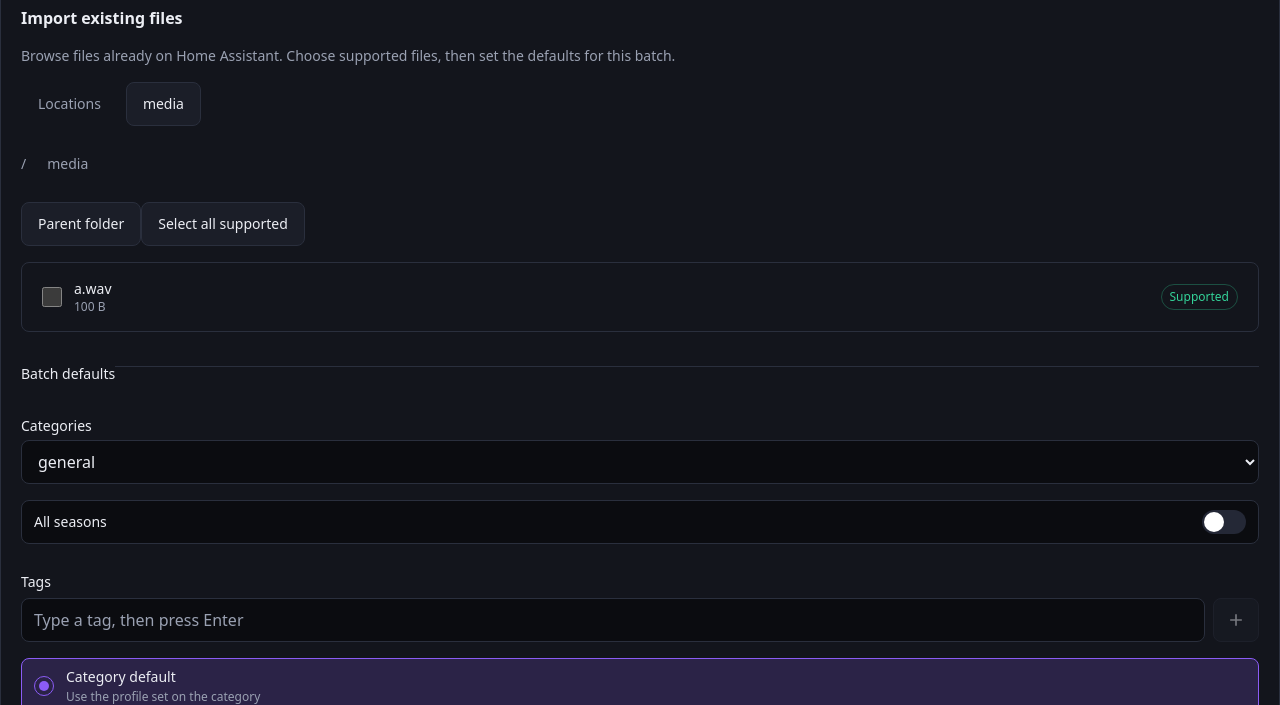
Scenario: keeps selected paths after a failed import, then clears them after success
This screenshot has width=1280, height=705.
Click the checkbox labelled "a.wav 100 B Supported" at (52, 297), box [42,287,62,307]
(page scrolled)
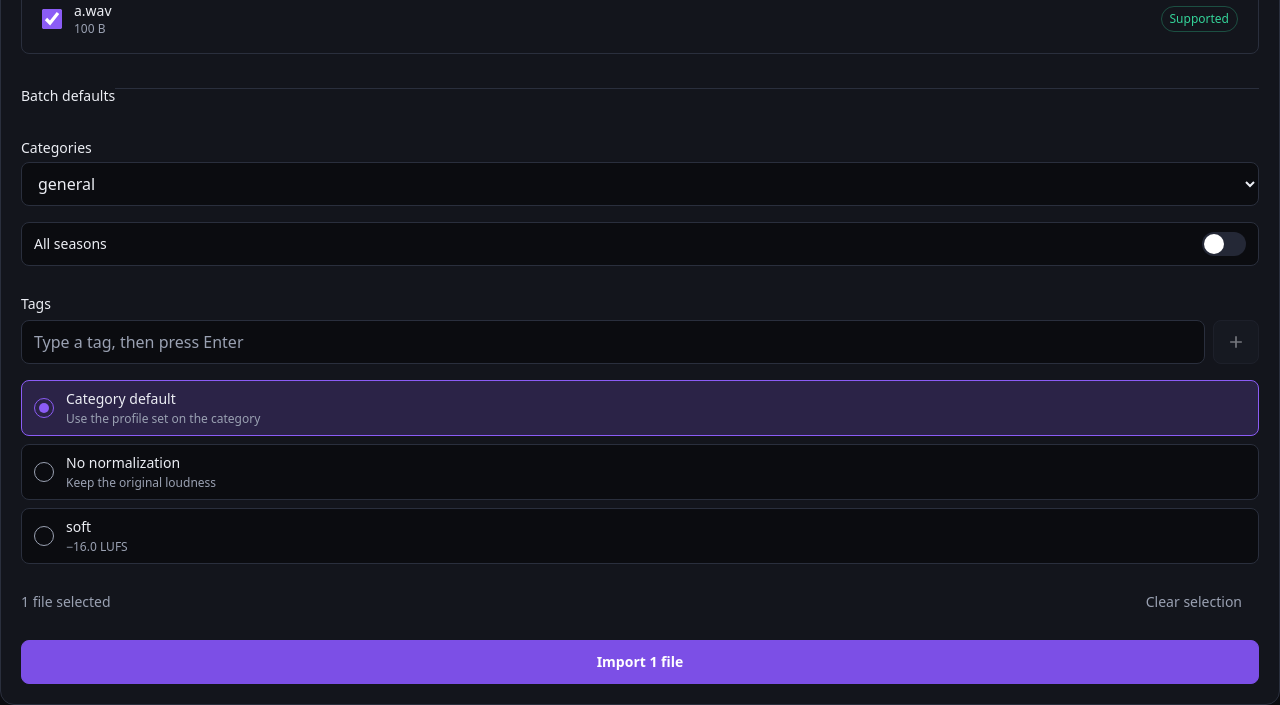
Click the button with test id "import-selected" at (640, 662), box [21,640,1259,684]
(page scrolled)
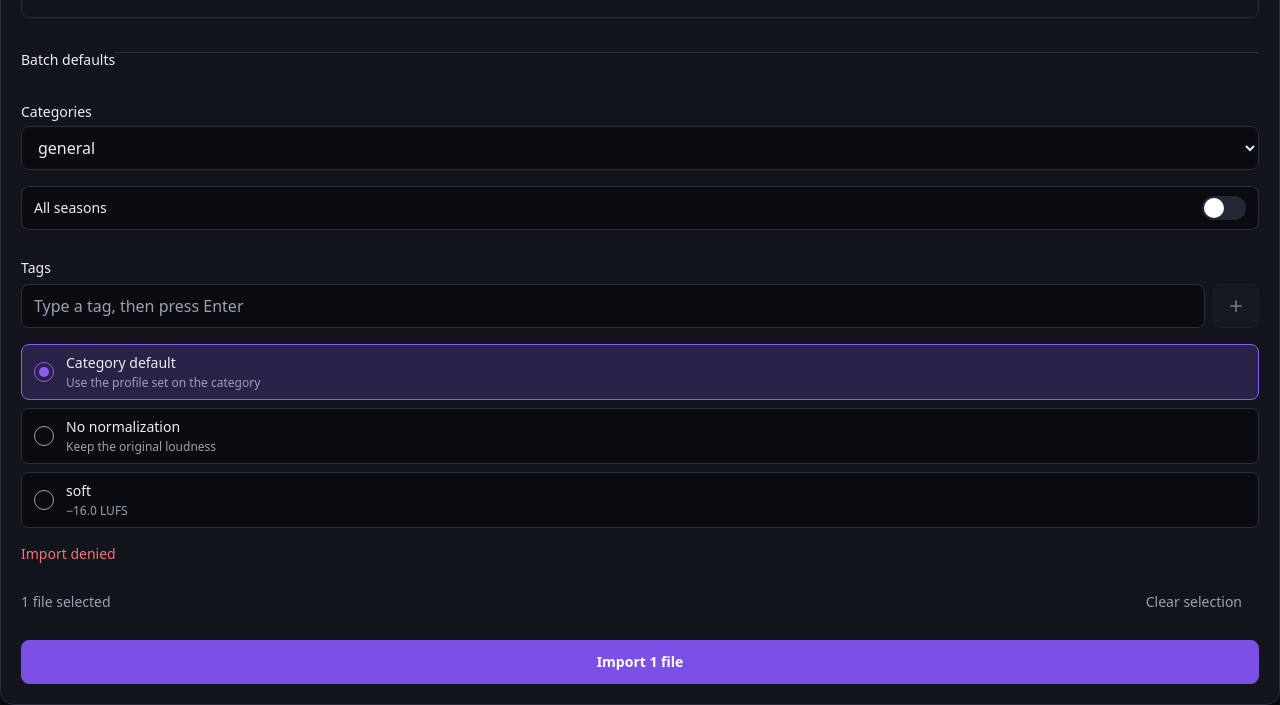
Now the message with test id "selection-count" reads "1 file selected", box [21,592,111,611]
Now the message "Import denied" is shown, box [21,544,116,563]
Click the button with test id "import-selected" at (640, 662), box [21,640,1259,684]
(page scrolled)
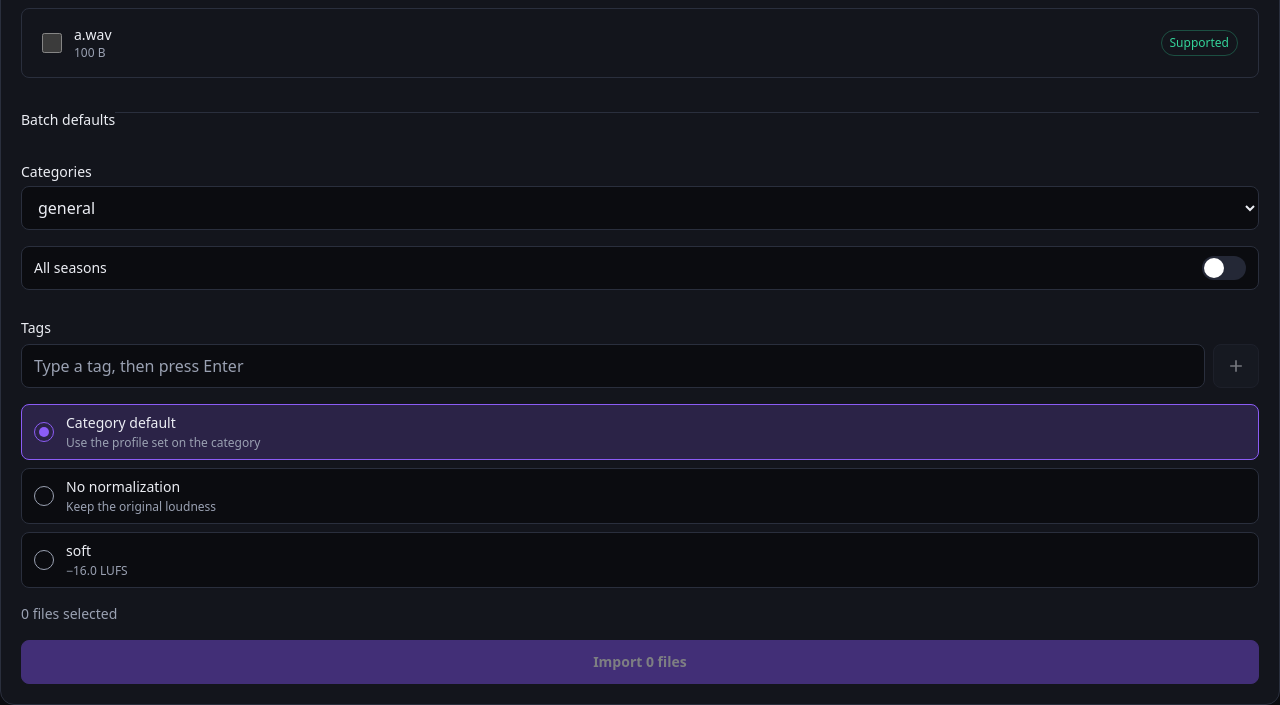
Now the message with test id "selection-count" reads "0 files selected", box [21,604,117,623]
